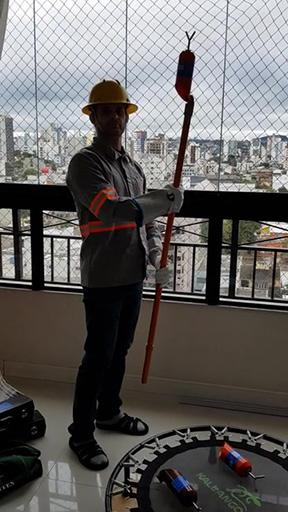Detector_Tensao_Contato: (219, 444, 264, 487), (174, 29, 197, 101)
Vara_Manobra: (140, 101, 194, 383)
